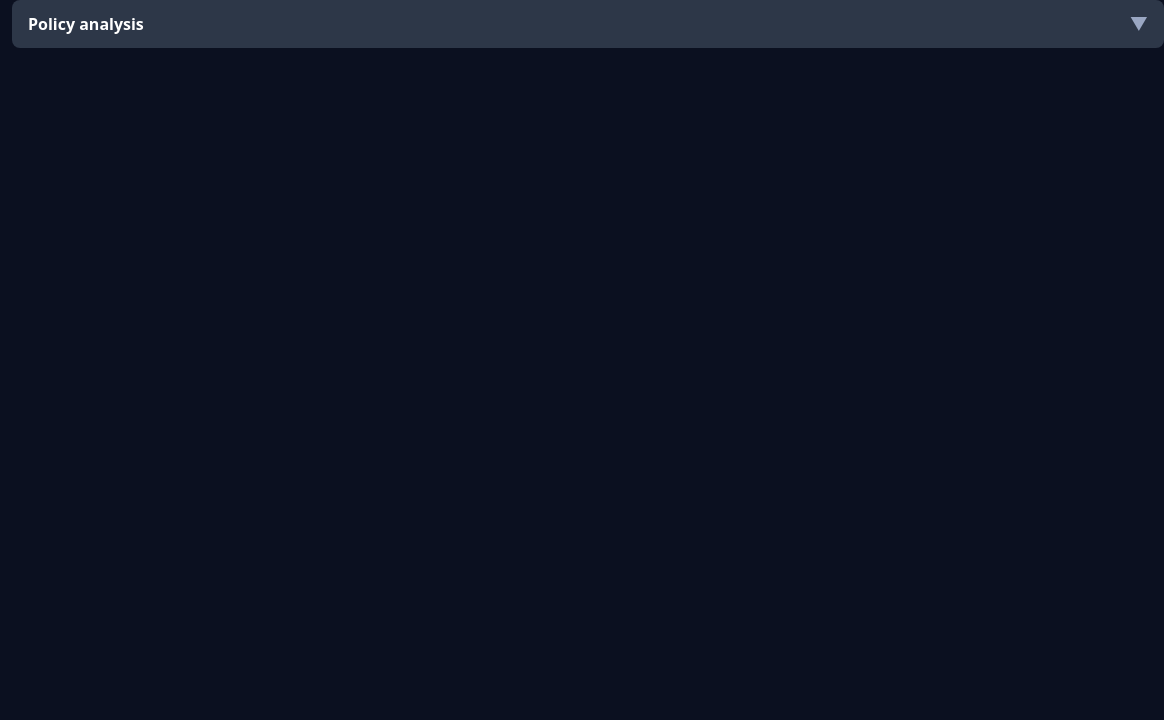
Test case: PolicyAnalysis Human-readable tab › keeps the plain-English translation for normal policies
Click the heading "Policy analysis": (86, 24) [28,13,144,35]
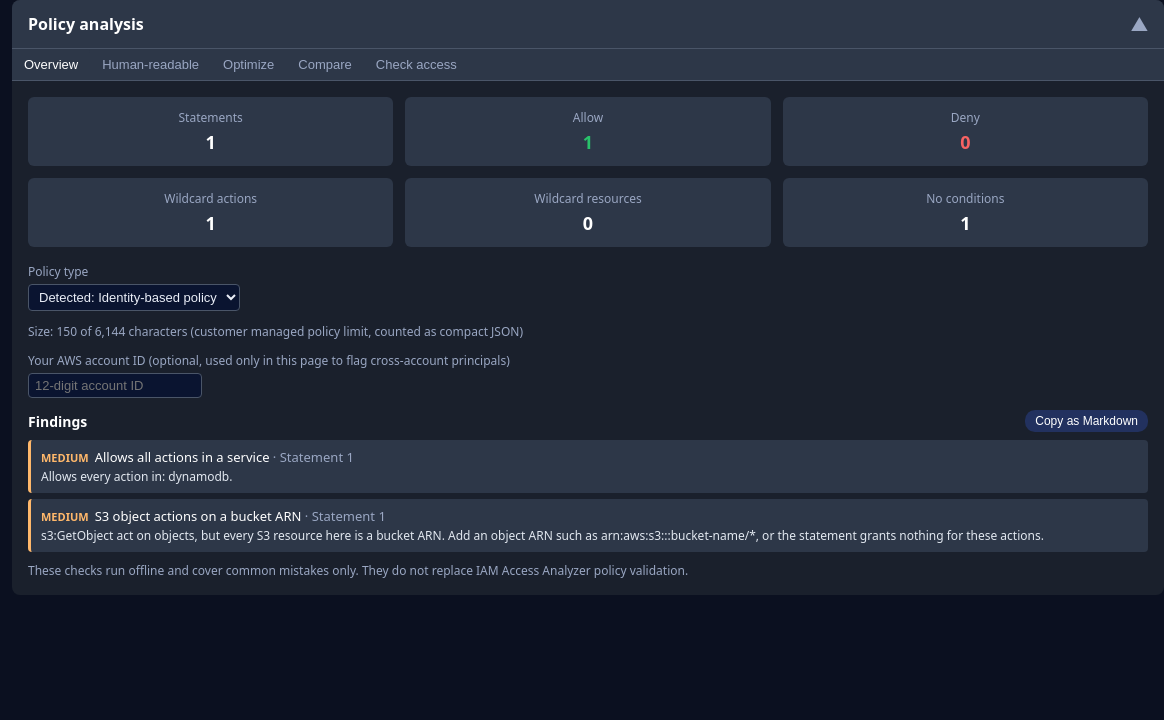
Click the button "Human-readable": (151, 64) [90,49,211,80]
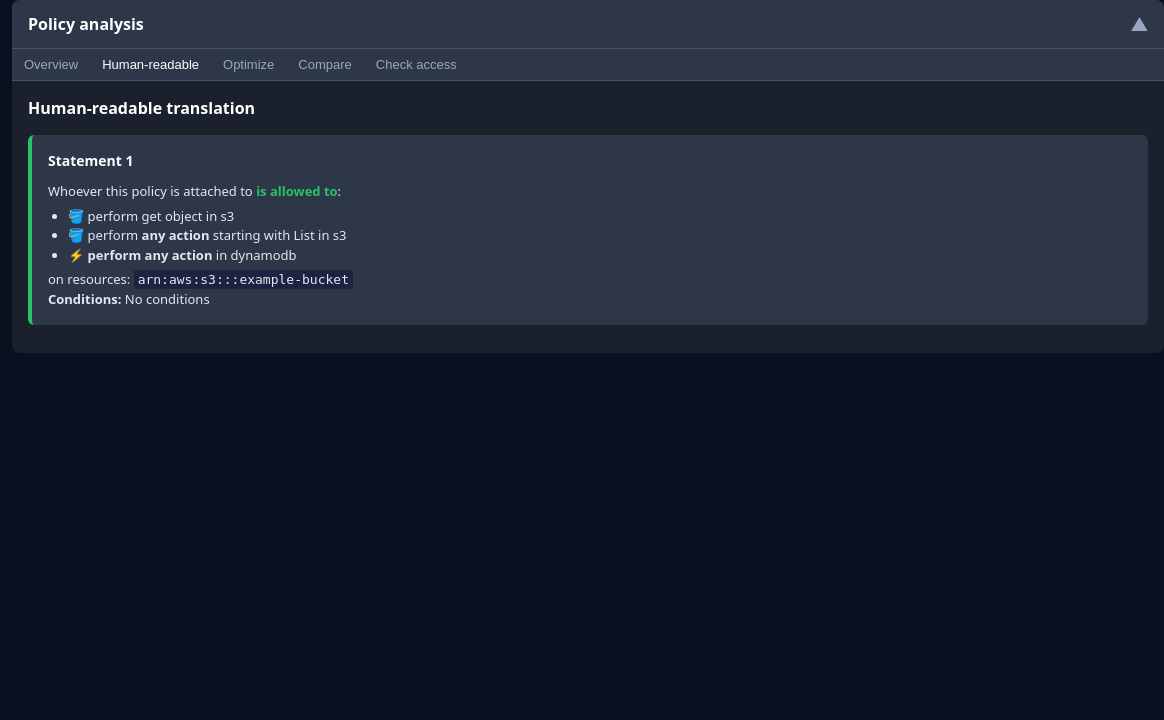
Now the element that starts with "Policy analysis" shows "arn:aws:s3:::example-bucket", box [138,272,349,287]
